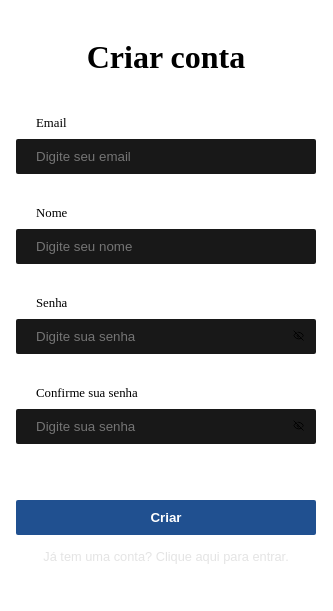
it: Create account › Validates all fields when form is submited
What coordinates should you click on to do the following:
click the button with test id "submit-form"
I would click on:
 (166, 518)
Its box is [16, 500, 316, 535].
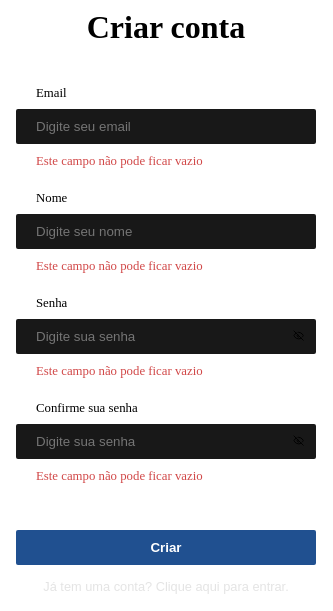
Check: the text with test id "email-error" reads "Este campo não pode ficar vazio", box [36, 154, 203, 168]
Check: the text with test id "name-error" reads "Este campo não pode ficar vazio", box [36, 259, 203, 273]
Check: the text with test id "password-error" reads "Este campo não pode ficar vazio", box [36, 364, 203, 378]
